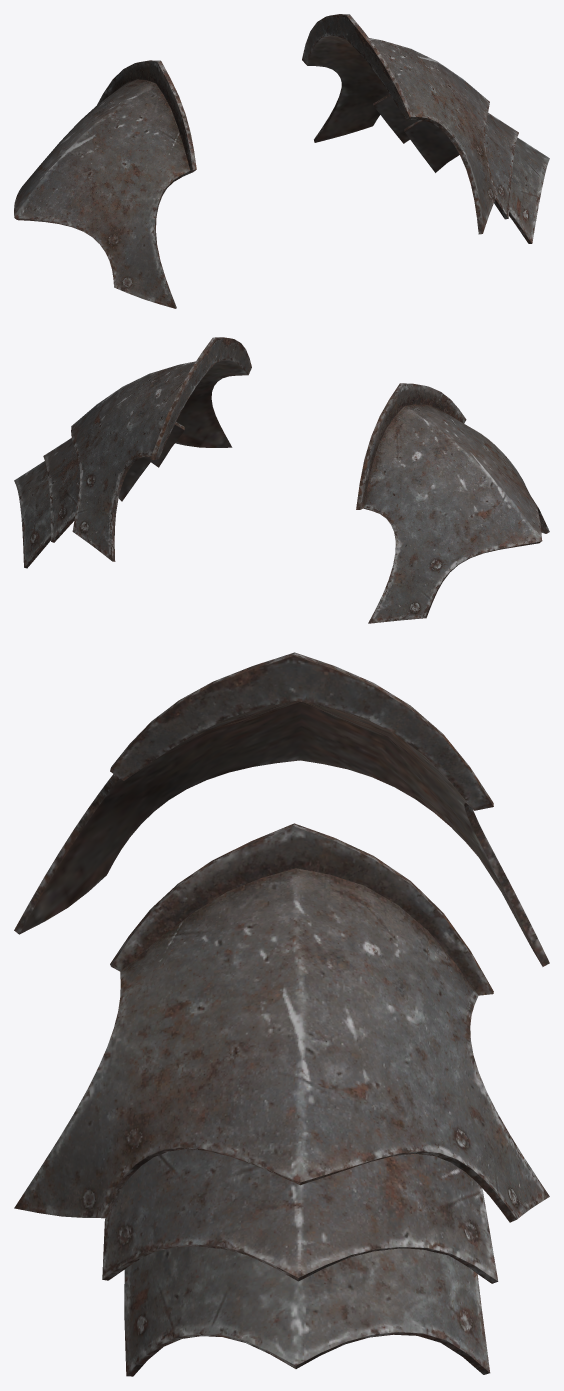
File: sk_gb_uruk_pauldron_heavy_a.fbx
3 views of the same model, one above another, from view 1: azimuth 30°, elevation 25°; view 2: azimuth 150°, elevation 25°; view 3: azimuth 270°, elevation 25° (orthographic). The views are drawn at different scales.
Visible parts, largest first — view 1: sk_gb_uruk_pauldron_heavy_a; view 2: sk_gb_uruk_pauldron_heavy_a; view 3: sk_gb_uruk_pauldron_heavy_a.
Part boxes in pixels (x1,y1,x2,y2): sk_gb_uruk_pauldron_heavy_a: [14, 14, 549, 308]; sk_gb_uruk_pauldron_heavy_a: [14, 337, 549, 623]; sk_gb_uruk_pauldron_heavy_a: [14, 652, 549, 1376].
Bounding box in the file's own units: 0.698 × 0.327 × 0.2878.
1 material, 1 textured.
